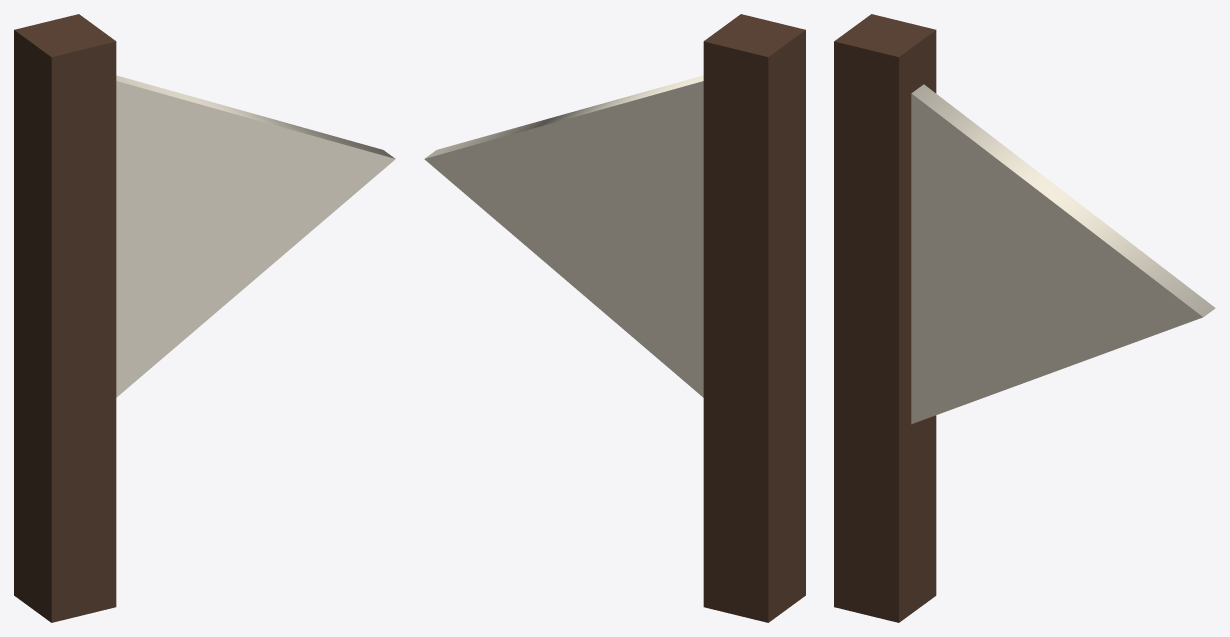
File: flag.fbx
3 views of the same model, side by side, from view 1: azimuth 30°, elevation 25°; view 2: azimuth 150°, elevation 25°; view 3: azimuth 330°, elevation 25° (orthographic).
Parts seen in each view (by area): view 1: flag; view 2: flag; view 3: flag.
Boxes of the visible parts, box(x1,y1,x2,y2) form: flag: box(14, 14, 395, 622); flag: box(424, 14, 805, 622); flag: box(834, 14, 1215, 622).
Size of the model in its own units: 0.0762 by 0.1155 by 0.0139.
